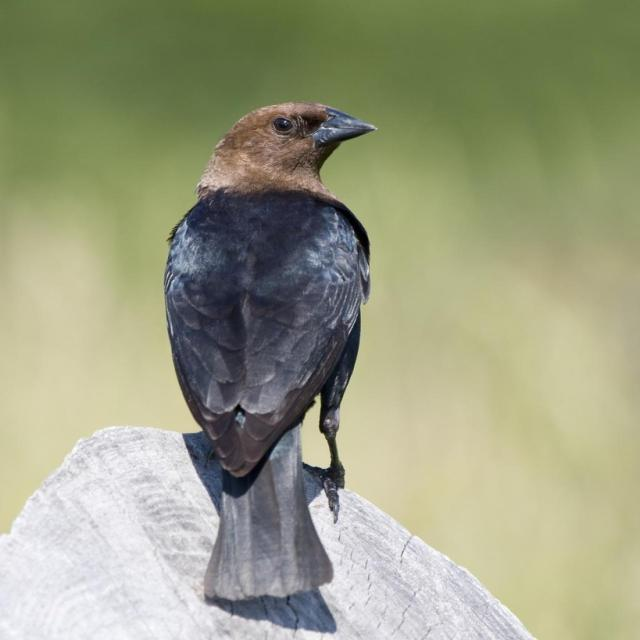bird: (165, 97, 412, 610)
